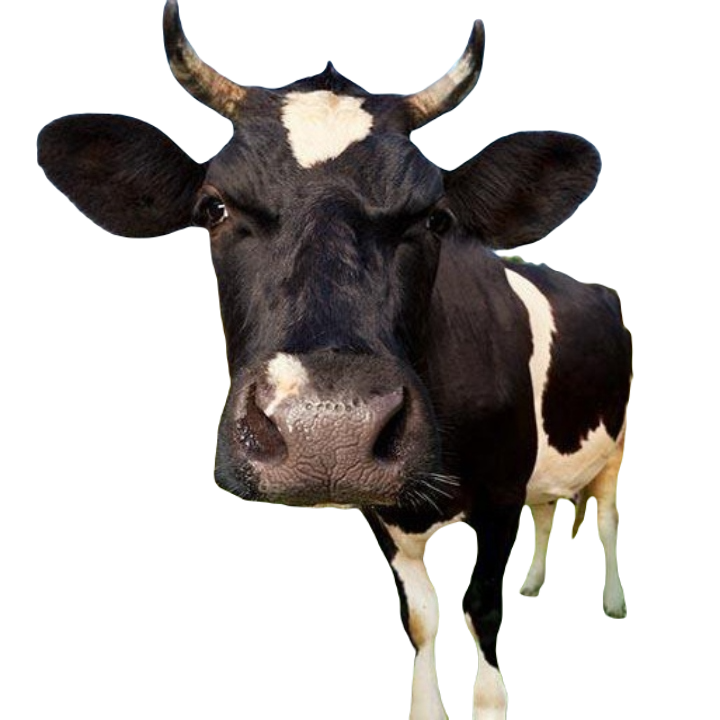Cow: (33, 0, 631, 720)
